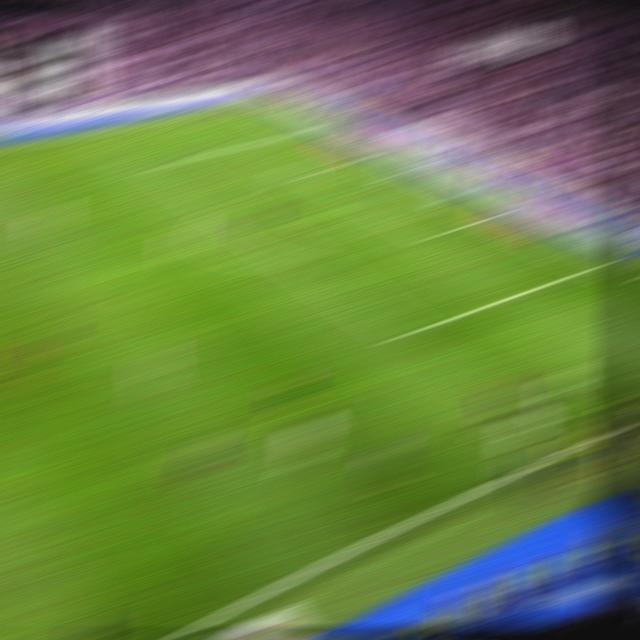bigarea_bottom_inner: (392, 324, 425, 341)
bigarea_bottom_outter: (587, 259, 617, 267)
bigarea_top_inner: (149, 158, 178, 168)
bottom_arc_area_intersection: (288, 254, 321, 267)
corner: (235, 100, 263, 104)
smallarea_top_inner: (308, 168, 334, 172)
top_arc_area_intersection: (206, 198, 235, 207)
